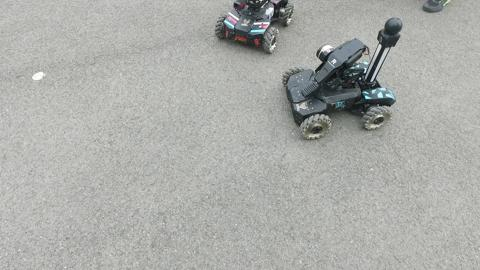chariot: (279, 16, 402, 141), (216, 1, 294, 63)
